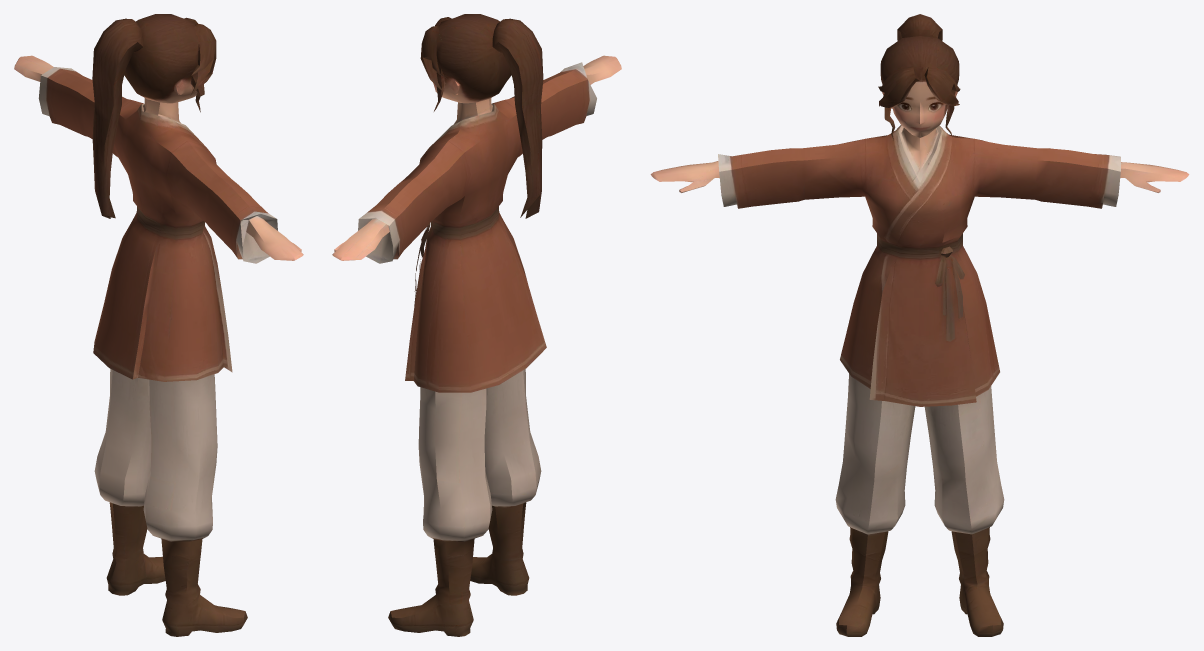
File: human_female.glb
The picture shows the model from 3 angles, left to right: view 1: azimuth 30°, elevation 25°; view 2: azimuth 150°, elevation 25°; view 3: azimuth 270°, elevation 25°; orthographic projection. The views are drawn at different scales.
Visible parts, largest first — view 1: tripo_node_e9d080d2-68ef-4972-8a55-53f75d704caf; view 2: tripo_node_e9d080d2-68ef-4972-8a55-53f75d704caf; view 3: tripo_node_e9d080d2-68ef-4972-8a55-53f75d704caf.
Boxes of the visible parts, x1,y1,x2,y2 form: tripo_node_e9d080d2-68ef-4972-8a55-53f75d704caf: (14, 14, 303, 636); tripo_node_e9d080d2-68ef-4972-8a55-53f75d704caf: (332, 14, 621, 636); tripo_node_e9d080d2-68ef-4972-8a55-53f75d704caf: (650, 14, 1189, 636).
Bounding box in the file's own units: 0.2067 × 1 × 0.8389.
1 material, 1 textured.
